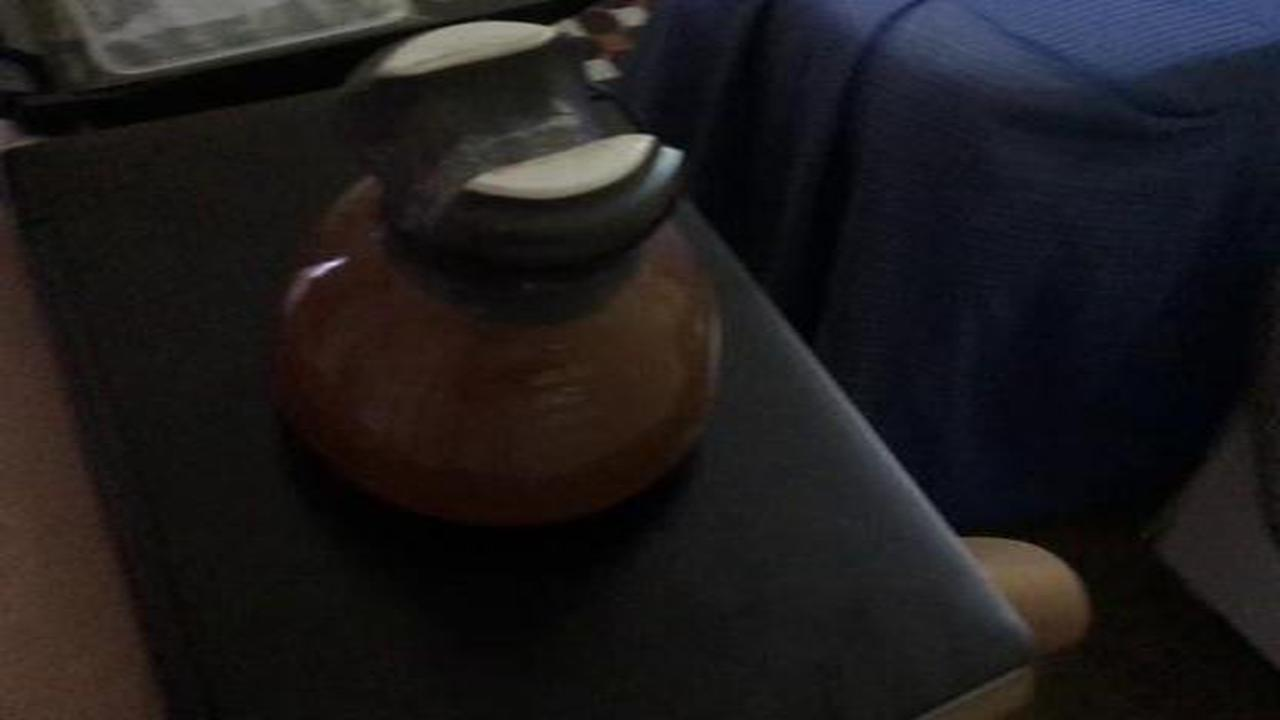insulator_pin: (258, 2, 733, 549)
